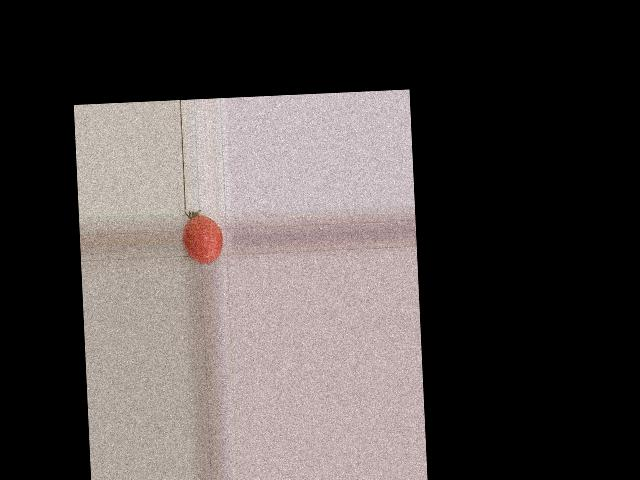tomato: (181, 213, 223, 264)
